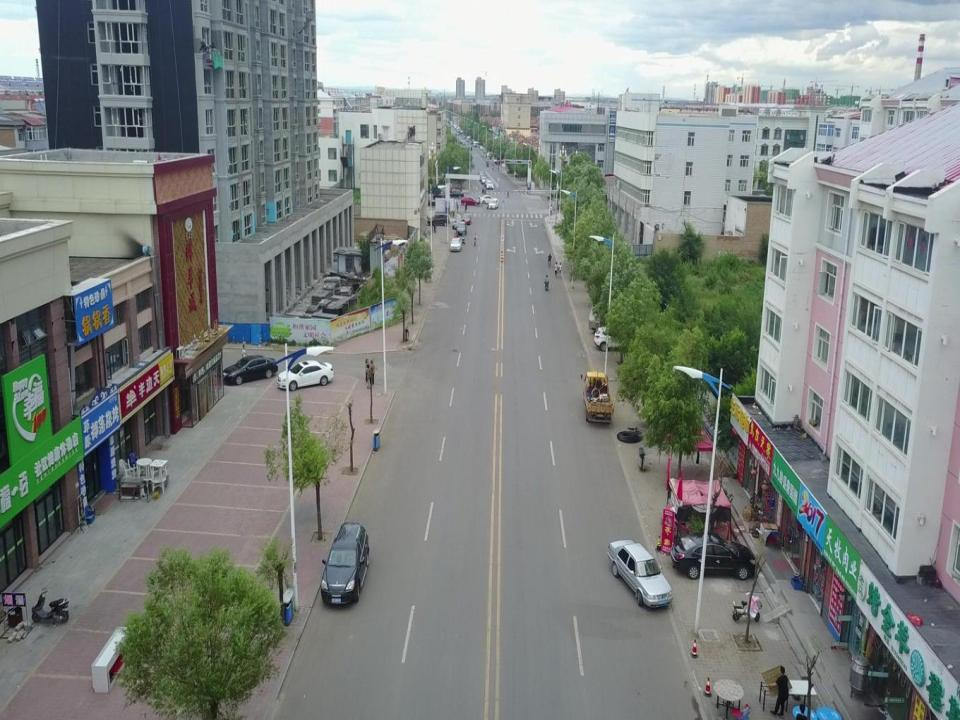car: (608, 538, 673, 609), (670, 531, 758, 581), (320, 522, 370, 606), (220, 354, 279, 385), (276, 360, 334, 391), (594, 325, 640, 351), (427, 214, 450, 227), (547, 189, 563, 200), (450, 238, 462, 252), (460, 197, 478, 206), (448, 189, 464, 199), (452, 219, 466, 230), (480, 195, 496, 204), (430, 191, 446, 200), (456, 221, 467, 234), (461, 213, 471, 225), (489, 198, 499, 209), (506, 167, 518, 173), (486, 181, 494, 189), (484, 179, 492, 187), (515, 171, 525, 177), (478, 171, 484, 180), (495, 160, 505, 165), (479, 174, 486, 181), (481, 176, 487, 184), (486, 152, 494, 157), (468, 145, 472, 150), (479, 146, 483, 150)
truck: (580, 371, 616, 426)
van: (588, 305, 627, 332), (493, 155, 504, 163), (462, 140, 466, 145), (483, 148, 486, 152)
